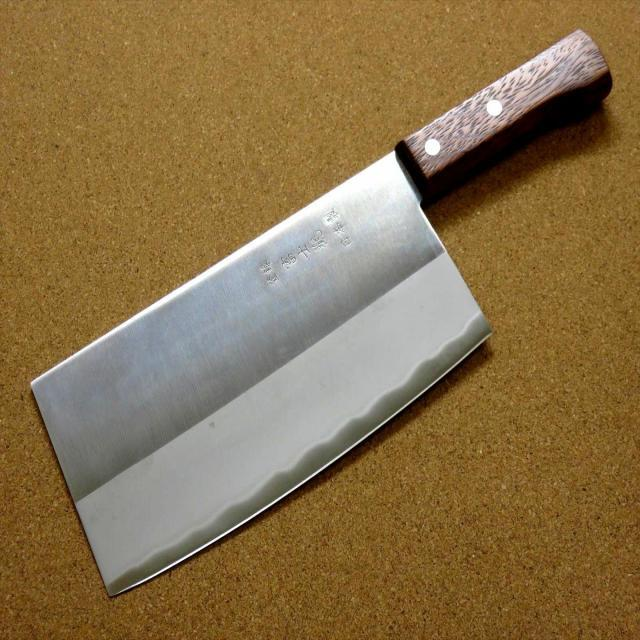cleaver: (29, 26, 614, 590)
